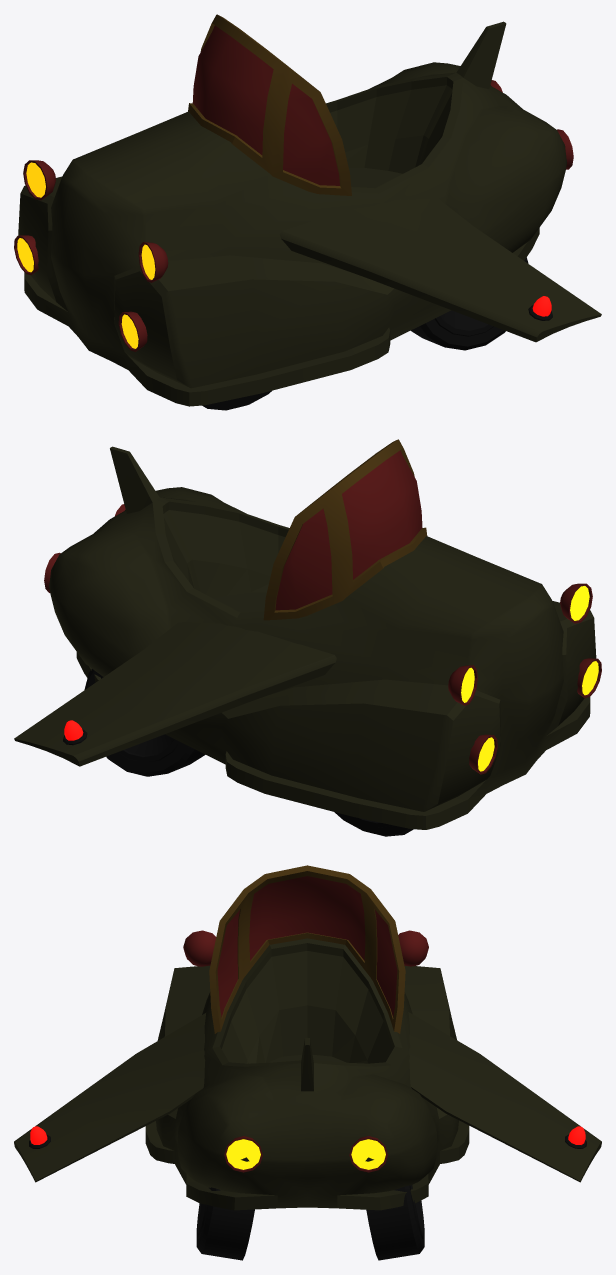
File: chibicar.fbx
3 views of the same model, one above another, from view 1: azimuth 30°, elevation 25°; view 2: azimuth 150°, elevation 25°; view 3: azimuth 270°, elevation 25° (orthographic). The views are drawn at different scales.
Parts seen in each view (by area): view 1: Box004, Box006, Group002, Cylinder004, Sphere007, Sphere008; view 2: Box004, Box006, Group002, Cylinder010, Sphere008, Sphere007, Cylinder011; view 3: Box004, Box006, Group002, Cylinder010, Cylinder004, Sphere007, Sphere008.
Part boxes in pixels (box(x1,y1,x2,y2)): Box004: box(18, 21, 566, 406); Box006: box(280, 198, 601, 342); Group002: box(188, 14, 351, 195); Cylinder004: box(410, 257, 528, 350); Sphere007: box(118, 129, 573, 351); Sphere008: box(14, 80, 502, 275); Box004: box(49, 446, 596, 829); Box006: box(14, 622, 336, 766); Group002: box(263, 439, 427, 620); Cylinder010: box(84, 669, 205, 776); Sphere008: box(44, 552, 497, 774); Sphere007: box(114, 504, 601, 698); Cylinder011: box(334, 812, 413, 836); Box004: box(145, 938, 469, 1210); Box006: box(14, 1012, 601, 1182); Group002: box(209, 865, 405, 1033); Cylinder010: box(366, 1185, 424, 1260); Cylinder004: box(196, 1187, 254, 1260); Sphere007: box(183, 930, 262, 1172); Sphere008: box(349, 930, 428, 1172).
Size of the model in its own units: 78.66 by 55.02 by 93.21.
